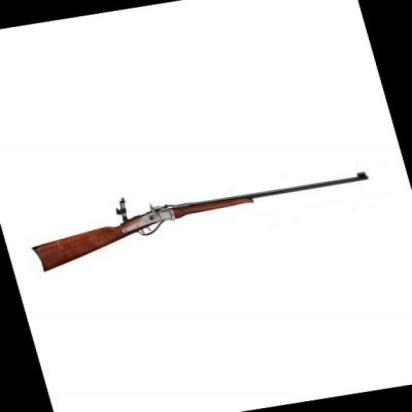Gun: (30, 169, 373, 275)
